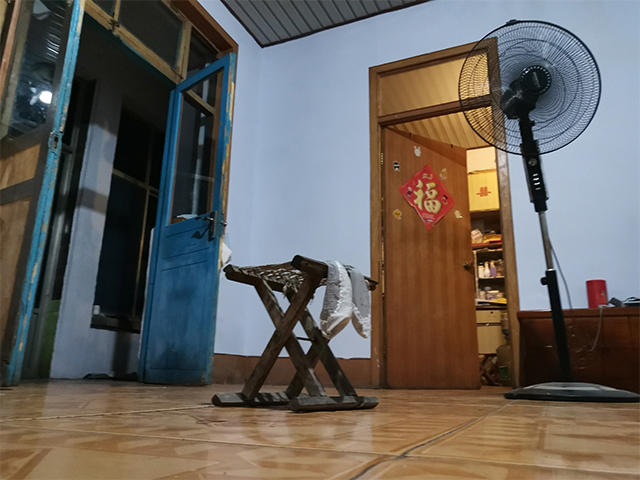cabinet: (514, 303, 640, 394)
stool: (210, 254, 381, 415)
